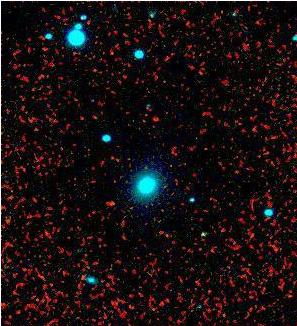star: (92, 188, 122, 218)
